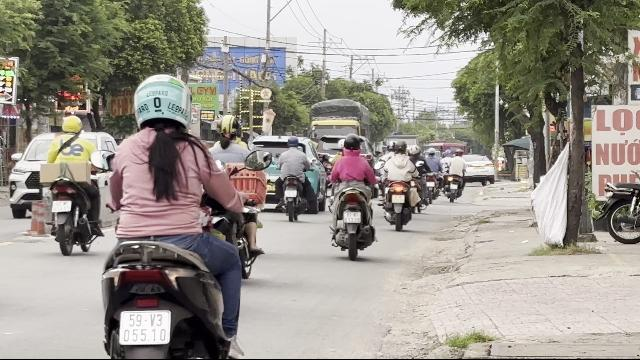helmet: (131, 72, 191, 132), (217, 114, 239, 142), (60, 114, 82, 134), (342, 133, 362, 153)
licenseplate: (120, 310, 170, 344), (343, 211, 361, 223), (52, 200, 70, 211)
motorcyclist: (88, 70, 256, 356), (204, 111, 268, 280), (41, 114, 104, 254), (325, 132, 379, 258)
